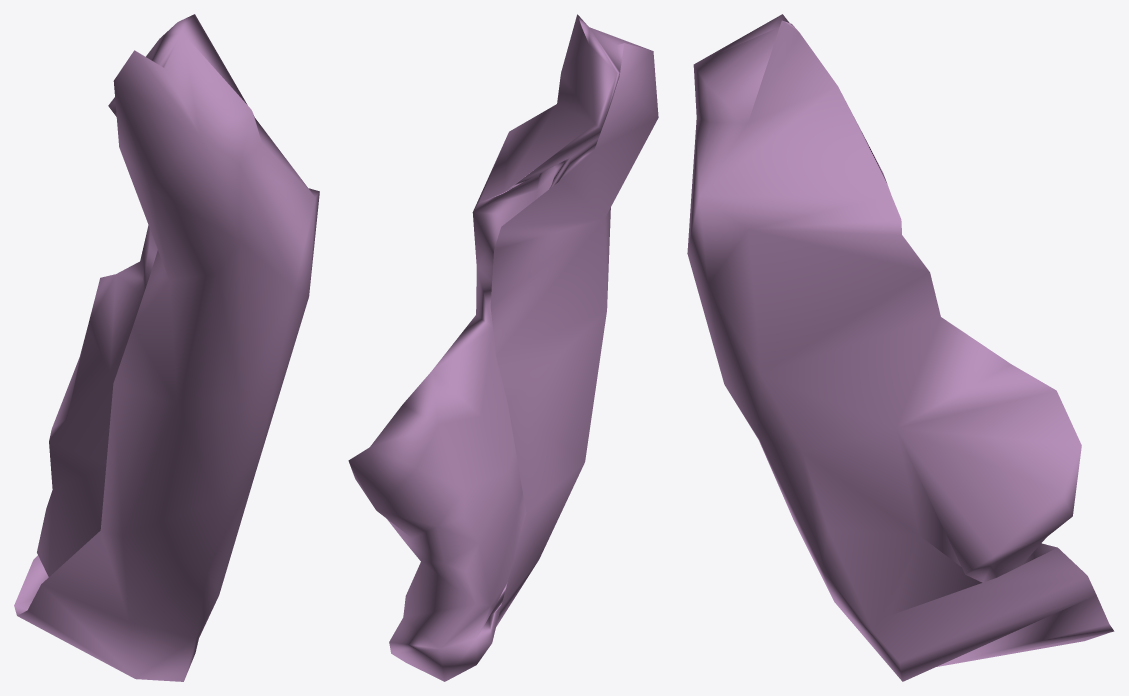
3 renders of one model, left to right at view 1: azimuth 30°, elevation 25°; view 2: azimuth 150°, elevation 25°; view 3: azimuth 270°, elevation 25°, orthographic. The views are drawn at different scales.
Parts seen in each view (by area): view 1: 右侧颞下沟; view 2: 右侧颞下沟; view 3: 右侧颞下沟.
Boxes of the visible parts, bbox=[...] form: 右侧颞下沟: bbox=[14, 14, 319, 681]; 右侧颞下沟: bbox=[348, 14, 658, 681]; 右侧颞下沟: bbox=[687, 14, 1114, 681].
Size of the model in its own units: 0.0162 by 0.0487 by 0.0296.
